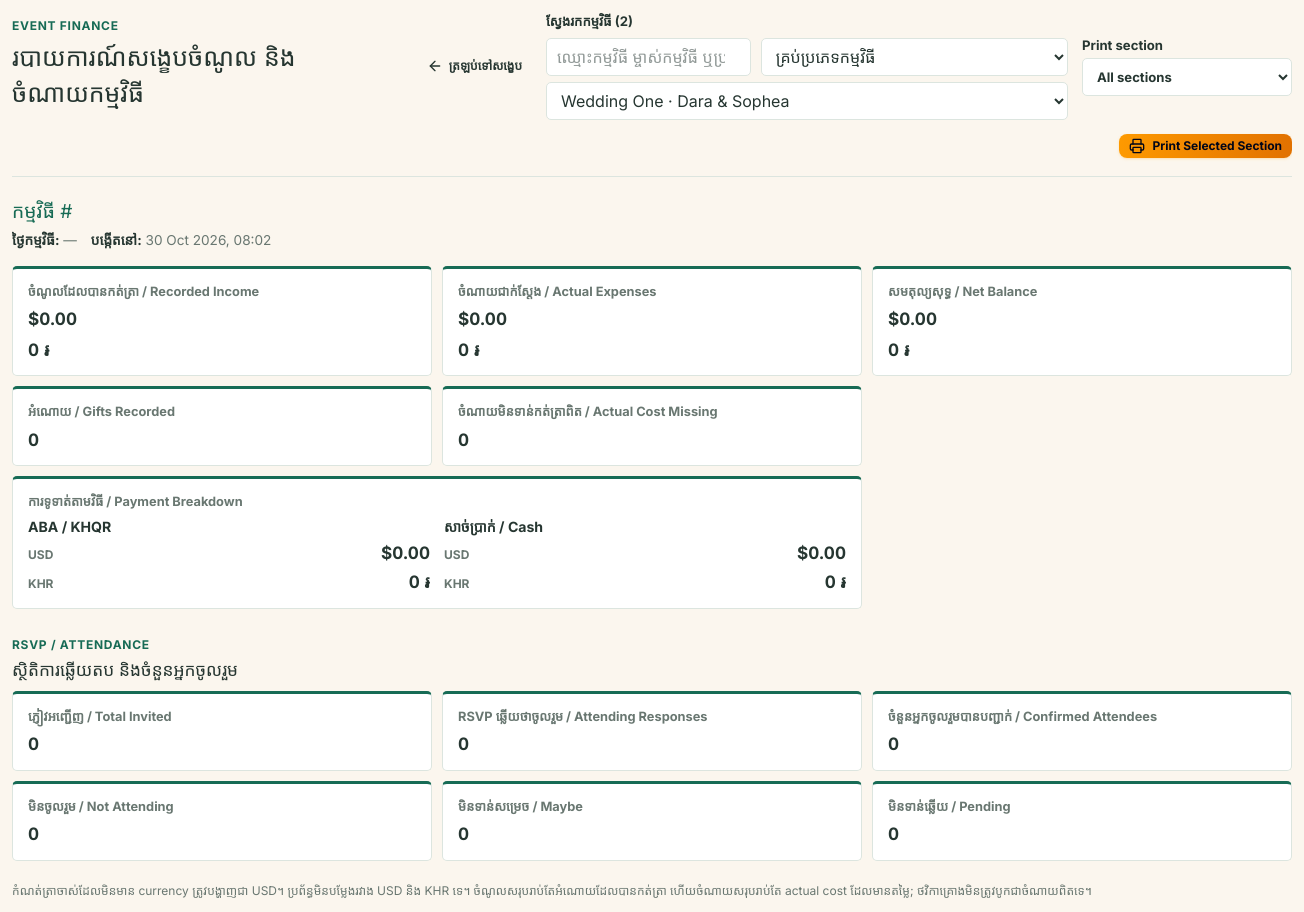
Test case: FinancialReport › lists multiple user-created invitations and fetches the selected event by ID
In the search field: {"x": 648, "y": 57} [546,38,751,76], type "Vireak"
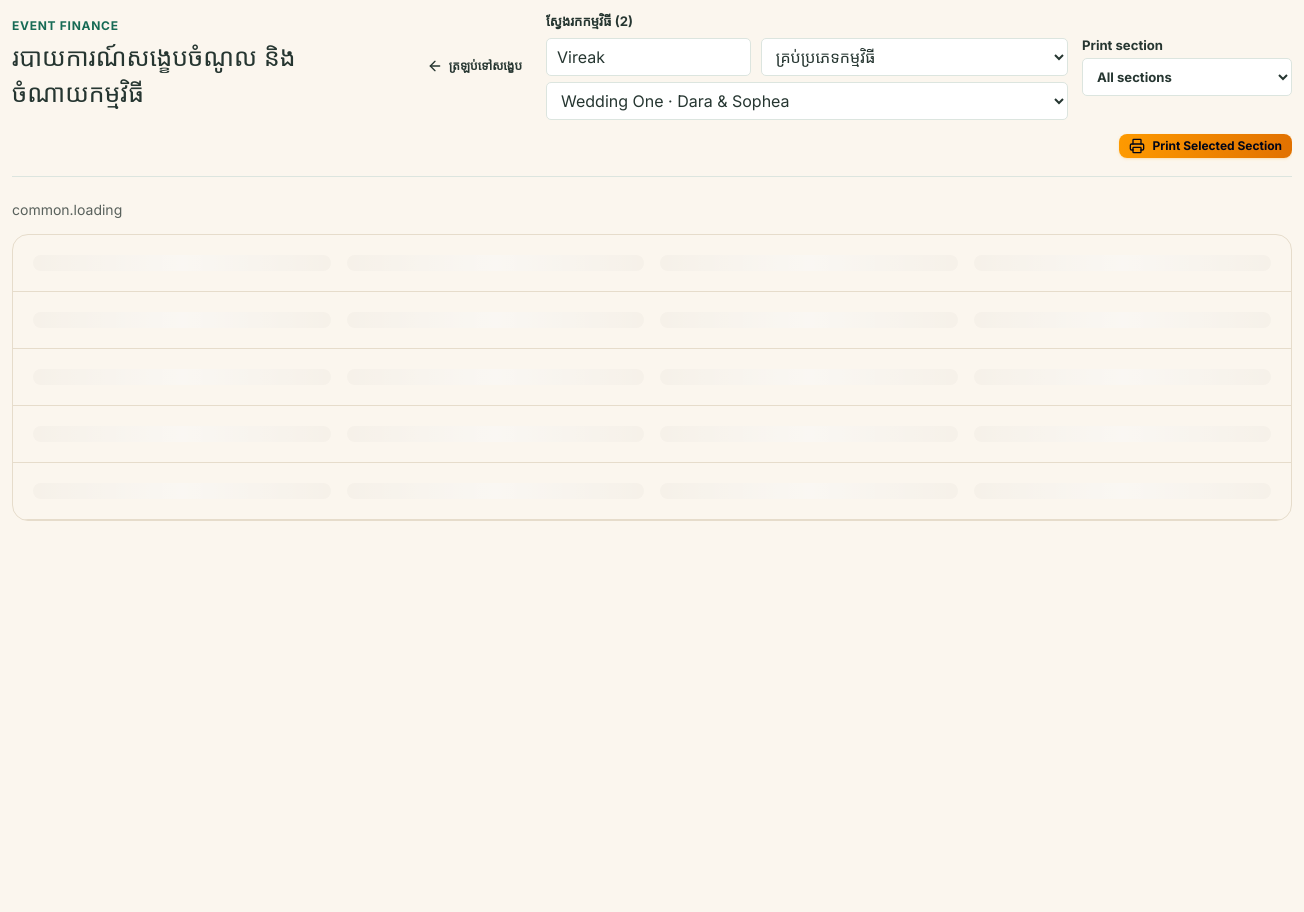
Select "Wedding Two · Vireak & Chenda" in the dropdown named "ជ្រើសរើសកម្មវិធី": {"x": 807, "y": 101} [546,82,1068,120]
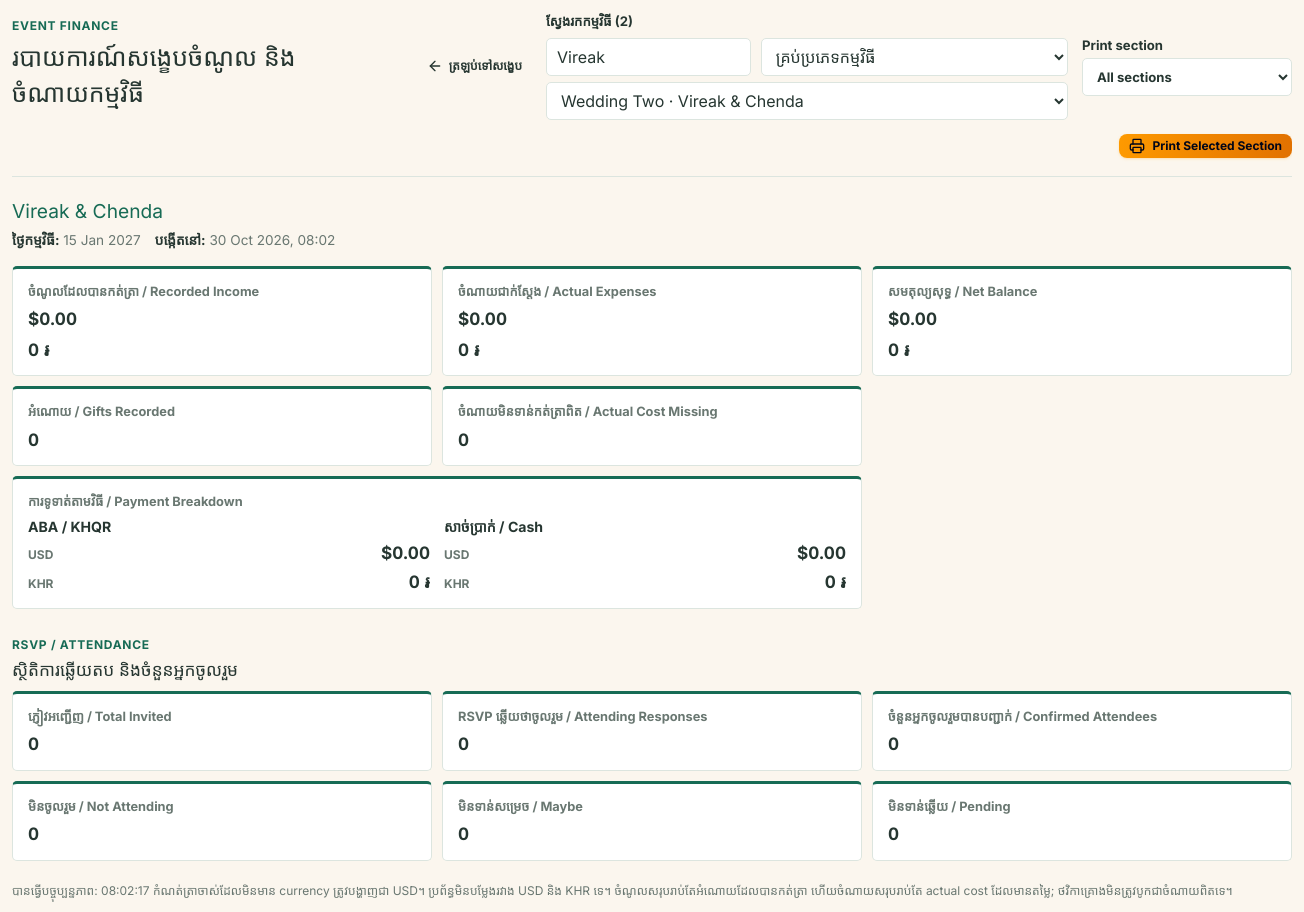
Check: the heading "Vireak & Chenda" is shown, box [12,199,163,223]
